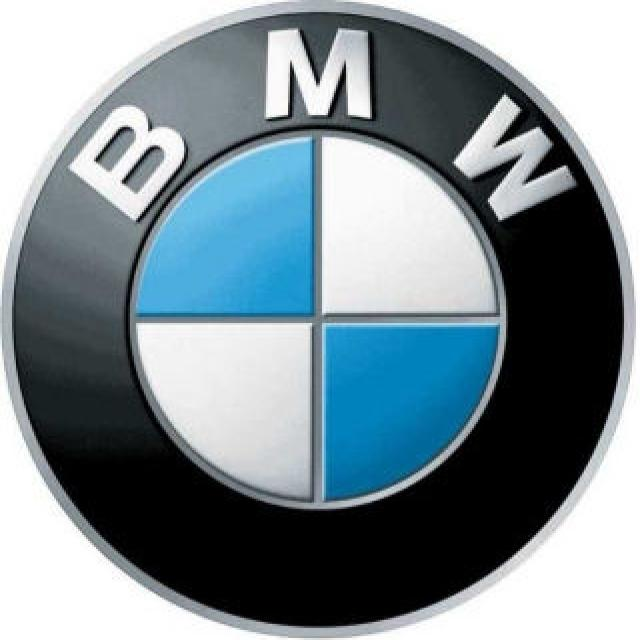bmw: (3, 3, 639, 639)
